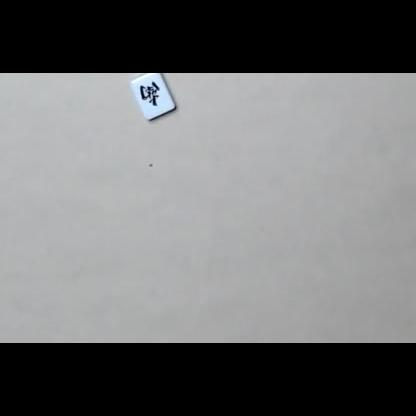2z: (140, 80, 160, 107)
